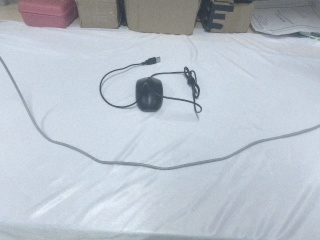box: (118, 1, 209, 39), (195, 1, 257, 35), (15, 1, 81, 32), (71, 1, 127, 31)
mouse: (134, 75, 164, 113)
